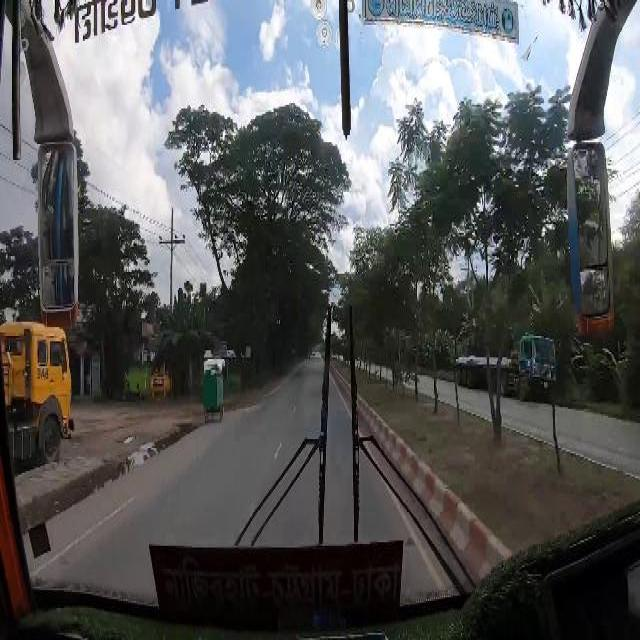truck: (0, 318, 76, 464), (455, 329, 557, 398)
